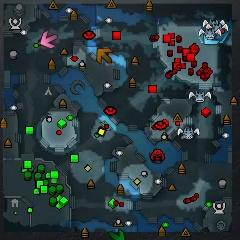x1: (39, 31, 57, 48)
x3: (203, 35, 220, 45)
x4: (109, 229, 125, 240)
x5: (97, 48, 113, 64)
